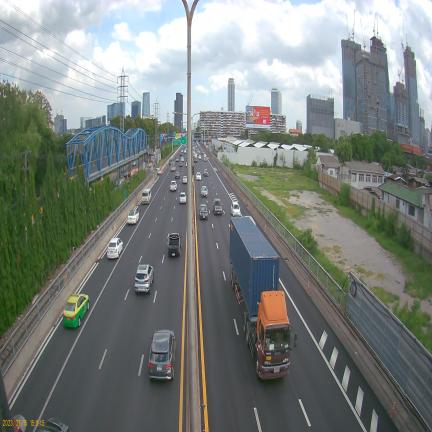car: (148, 330, 175, 380), (135, 264, 154, 292), (107, 238, 123, 258), (127, 210, 139, 224), (231, 202, 241, 216), (199, 204, 208, 219), (201, 186, 208, 197), (179, 192, 186, 203), (196, 172, 201, 180), (182, 176, 187, 184), (175, 172, 180, 179)
pickup: (168, 233, 181, 256), (213, 198, 222, 214), (170, 181, 177, 191), (203, 169, 209, 176)
taxi: (63, 294, 90, 328)
truck: (230, 218, 297, 380), (171, 161, 176, 171), (203, 154, 207, 162)
van: (142, 189, 151, 204)
